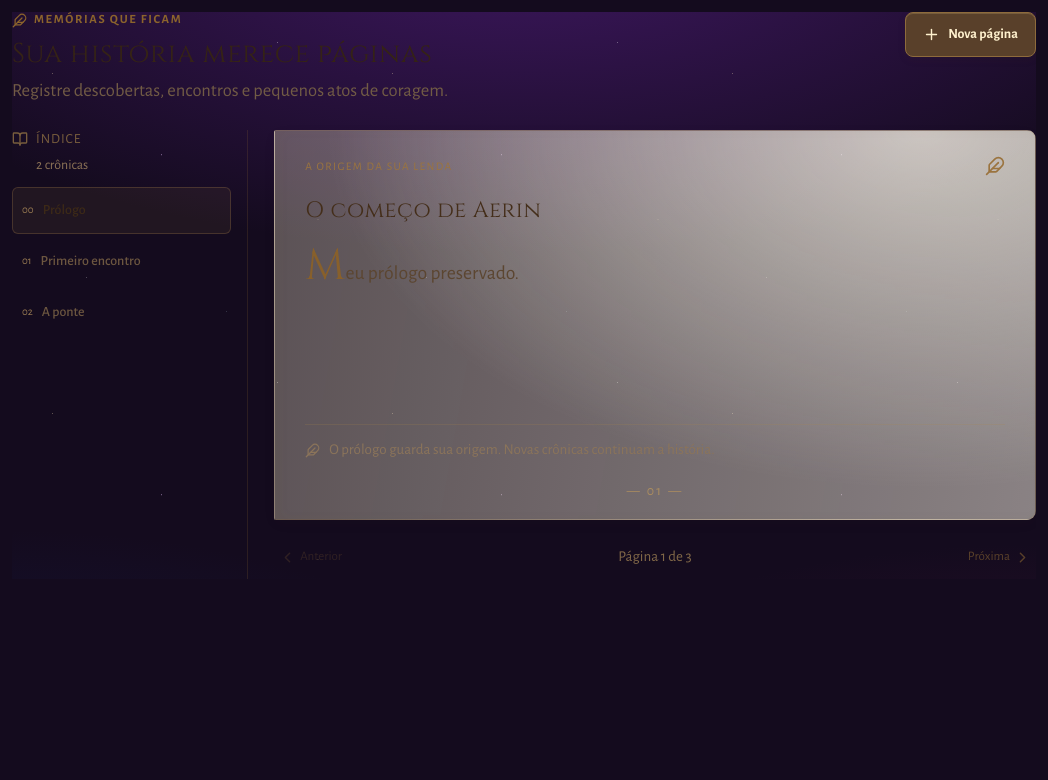
Test: Páginas da história no livro do Herói › folheia o prólogo e as crônicas existentes sem alterar o salvamento
The image size is (1048, 780).
Expected: the text "Meu prólogo preservado." is shown, [305,237,519,295]
Click the button with aria-label "Próxima página da história": (999, 557) [963,535,1036,579]
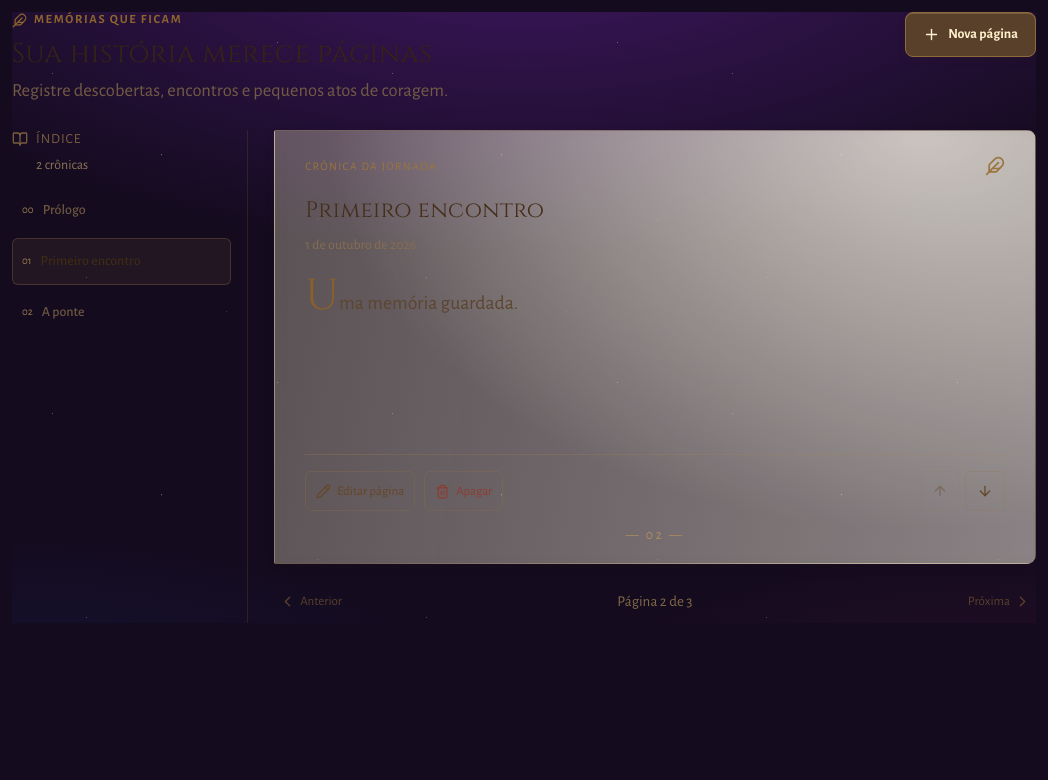
Now the element named "Crônica: Primeiro encontro" is shown, box [274,130,1036,564]
Now the text "Página 2 de 3" is shown, box [617,592,693,611]
Click the button with aria-label "Próxima página da história": (999, 601) [963,579,1036,623]
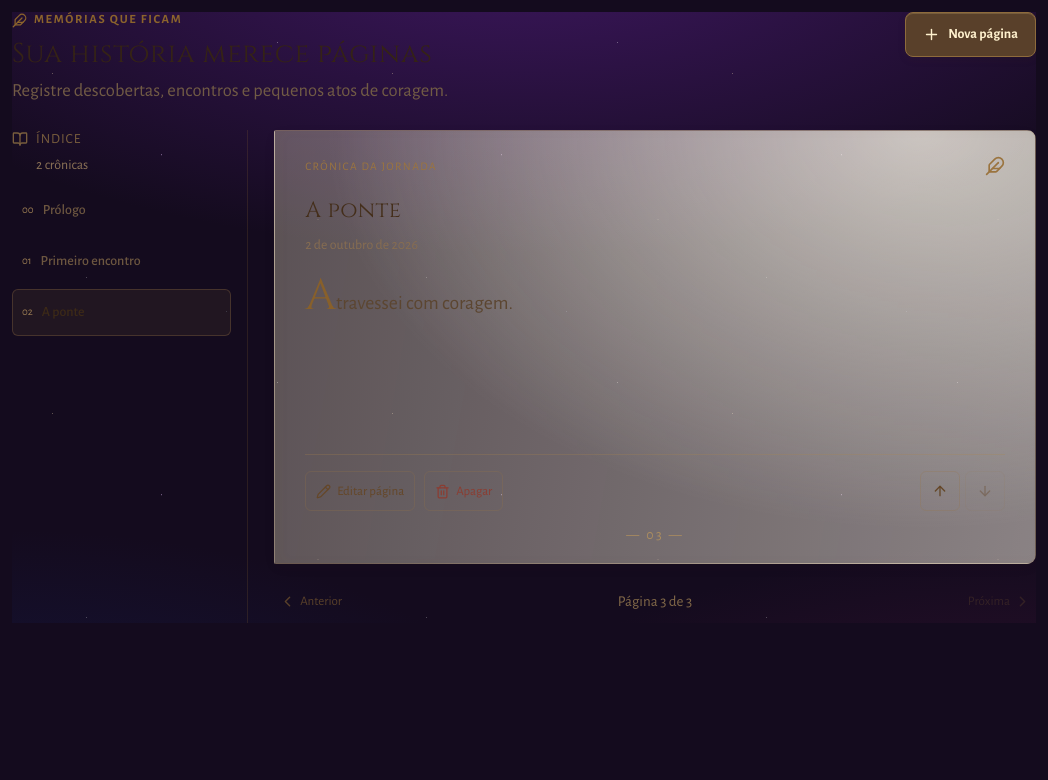
Now the text "Atravessei com coragem." is shown, box [305,267,513,325]
